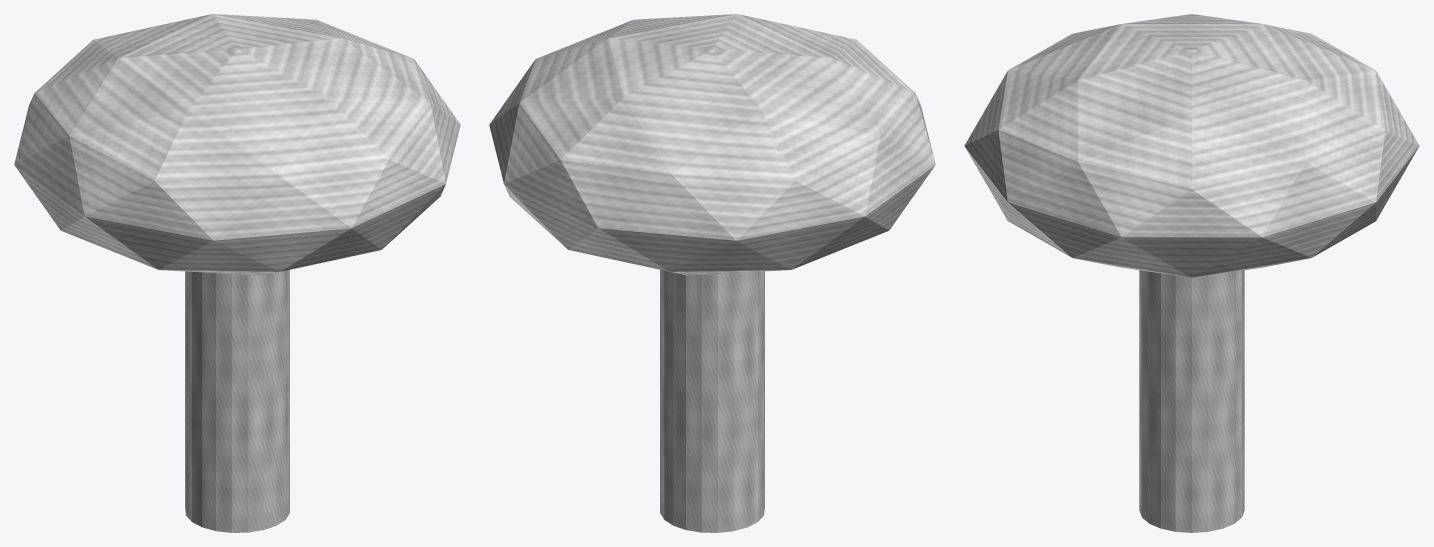
Rendered from flora-spore-flower_variant_d.glb.
The picture shows the model from 3 angles, left to right: view 1: azimuth 30°, elevation 25°; view 2: azimuth 150°, elevation 25°; view 3: azimuth 270°, elevation 25°; orthographic projection.
Parts seen in each view (by area): view 1: Mushroom cap.003, Plant stalk.003; view 2: Mushroom cap.003, Plant stalk.003; view 3: Mushroom cap.003, Plant stalk.003.
Part boxes in pixels (x1,y1,x2,y2): Mushroom cap.003: (14,14,460,275); Plant stalk.003: (185,270,289,532); Mushroom cap.003: (489,14,935,275); Plant stalk.003: (660,270,764,532); Mushroom cap.003: (964,14,1419,277); Plant stalk.003: (1139,270,1244,532).
Size of what is drawn, in the model's own units: 1.24 by 1.45 by 1.3.
3 materials, 3 textured.
